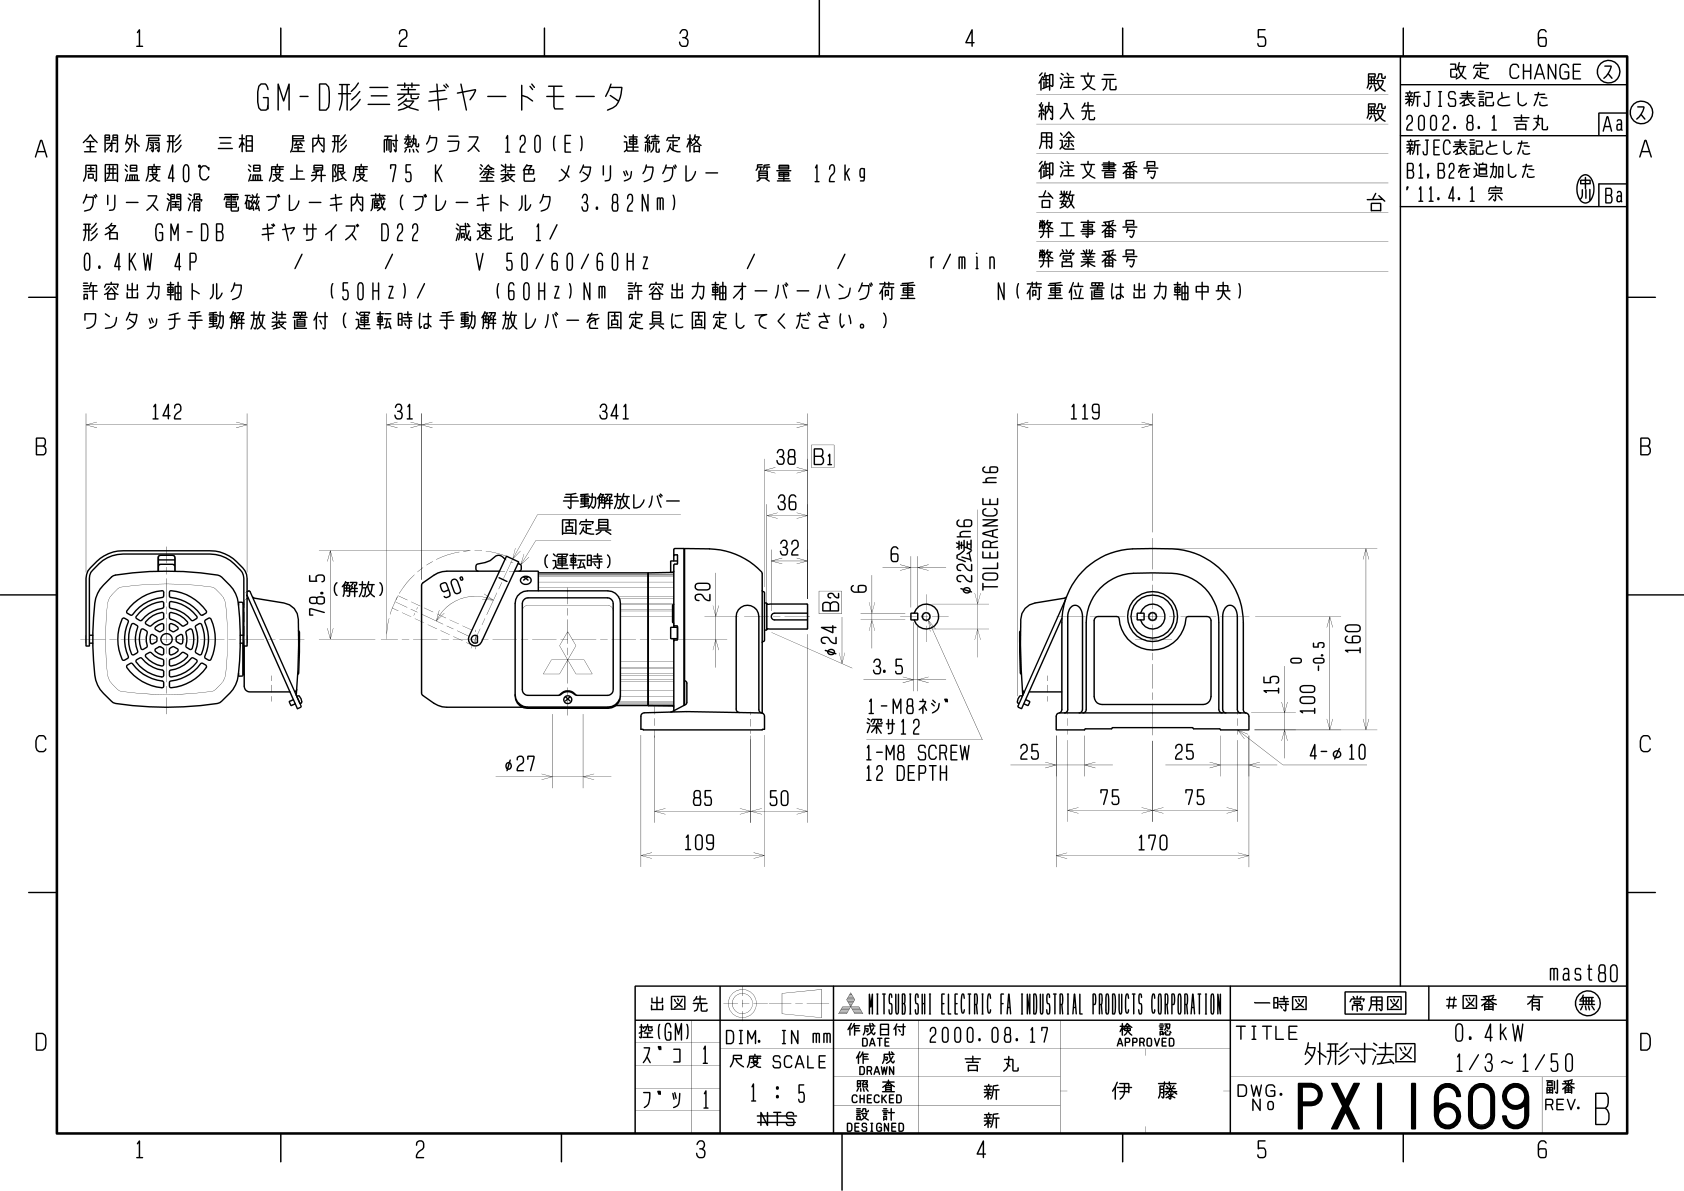GM_D_手動解放ブレーキ＿三相_脚: (67, 357, 1383, 916)
